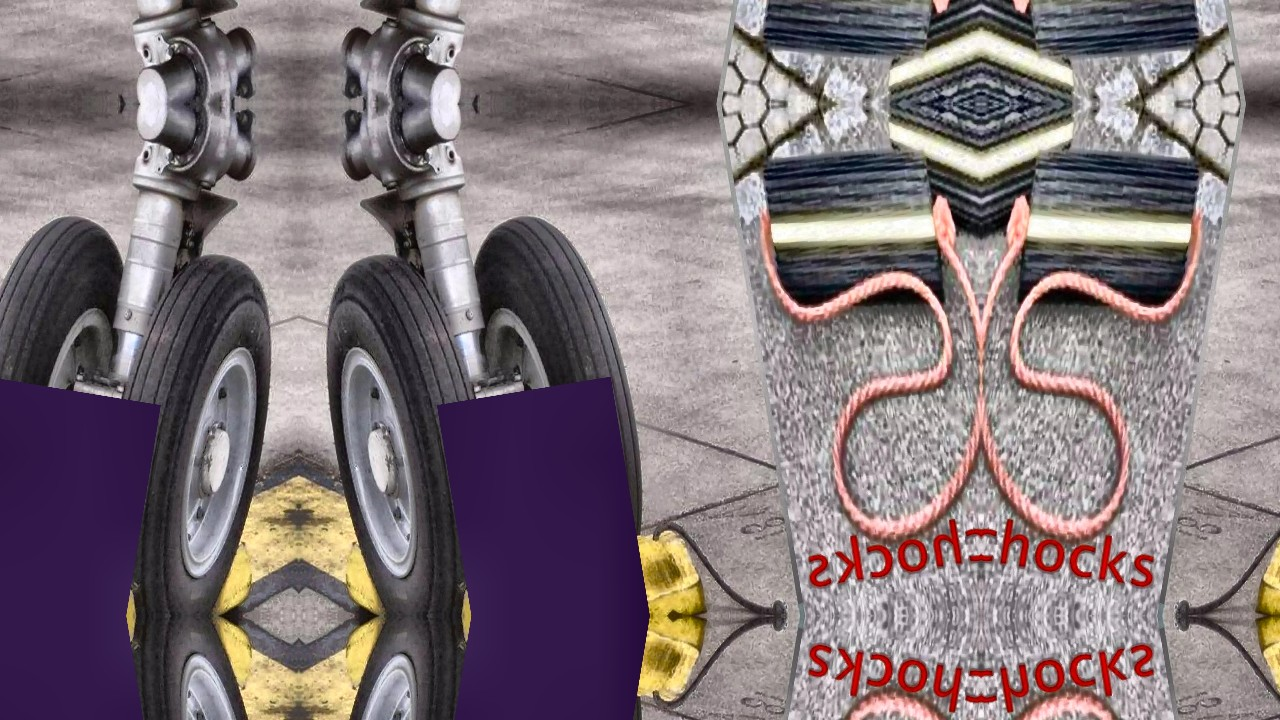chock: (1011, 136, 1215, 328), (748, 136, 951, 328), (443, 515, 714, 616), (443, 616, 714, 717), (981, 104, 1088, 273), (875, 104, 981, 273), (0, 515, 154, 616), (0, 616, 154, 717), (1011, 0, 1215, 72), (748, 0, 951, 72), (981, 0, 1088, 104), (875, 0, 981, 104), (1248, 515, 1280, 616), (1248, 616, 1280, 717)
wheel: (82, 246, 291, 616), (306, 246, 515, 616), (455, 204, 658, 576), (0, 204, 143, 576), (82, 616, 291, 720), (306, 616, 515, 720), (455, 656, 658, 720), (0, 656, 143, 720)
